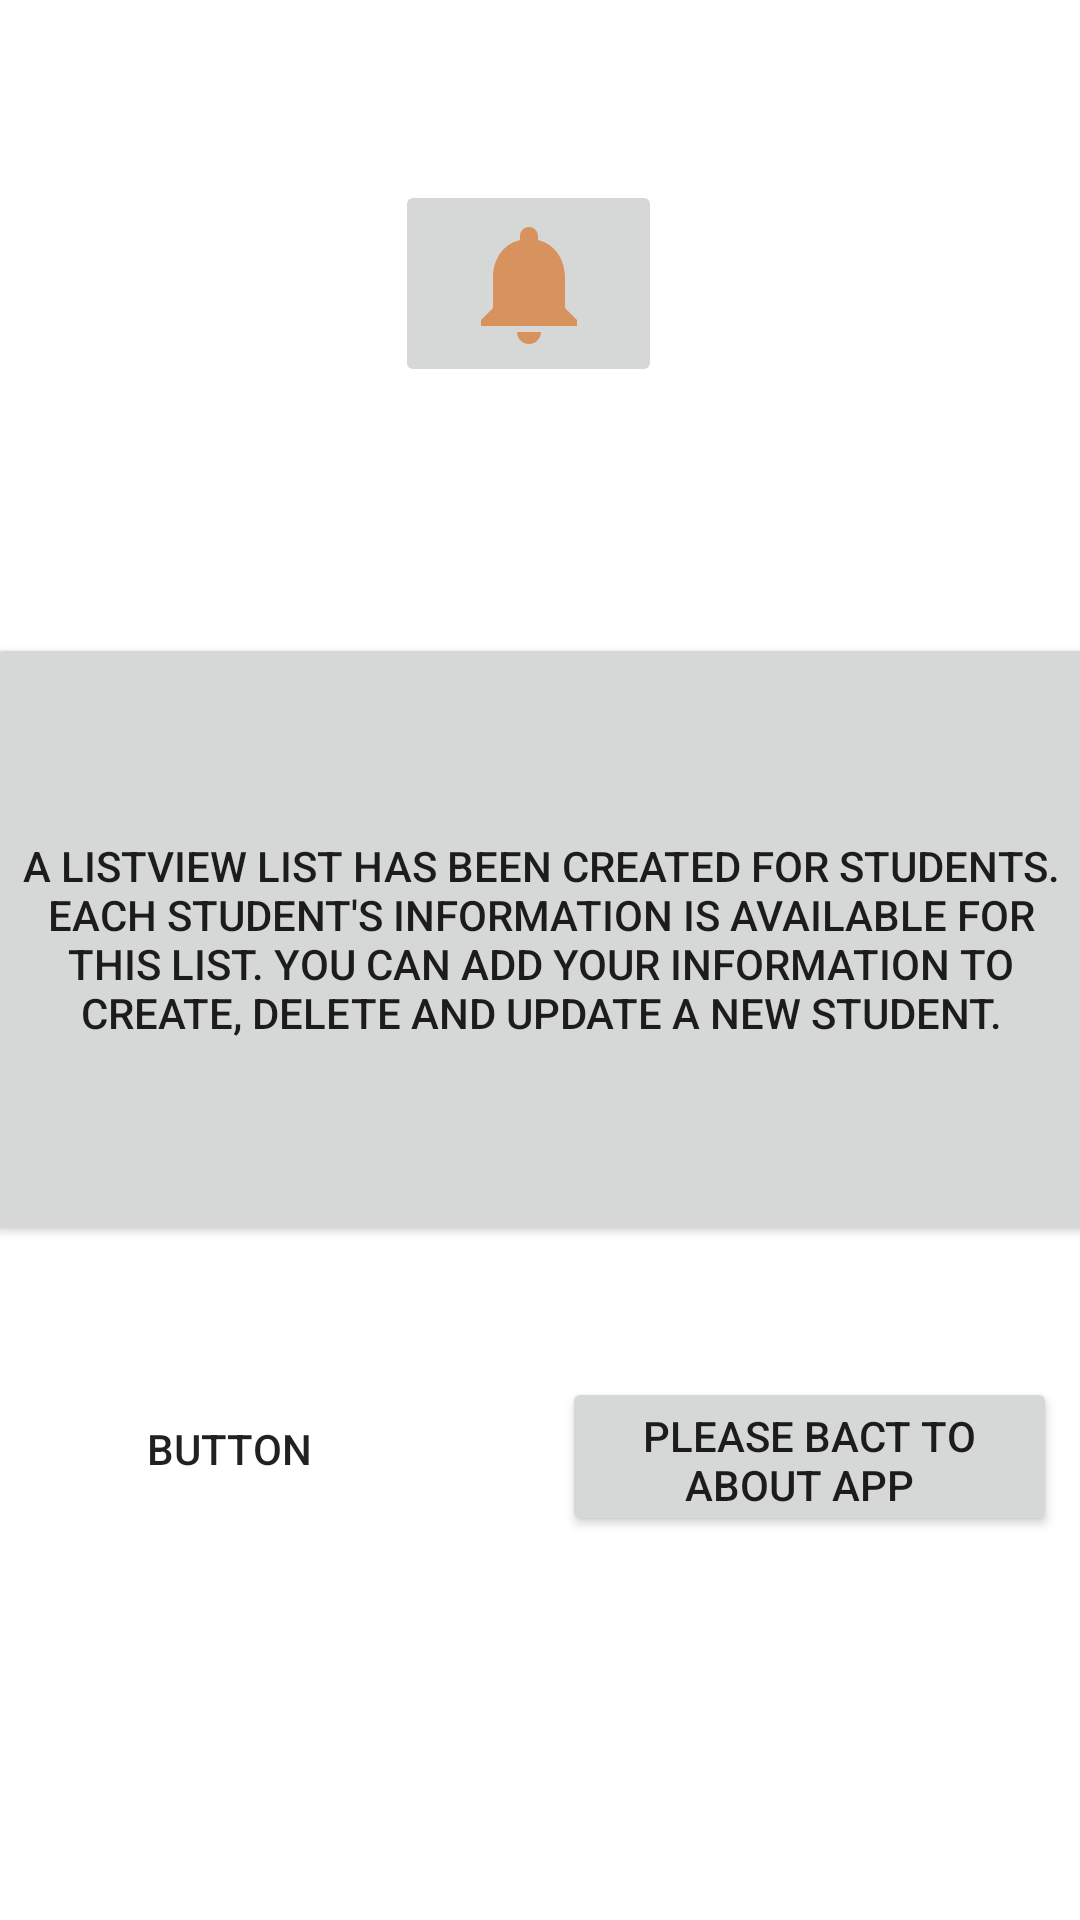

Point at icon controls on the screen. Image size 1080px x 1920px, points as (x=x, y=y).
notifications: (x=528, y=283)
